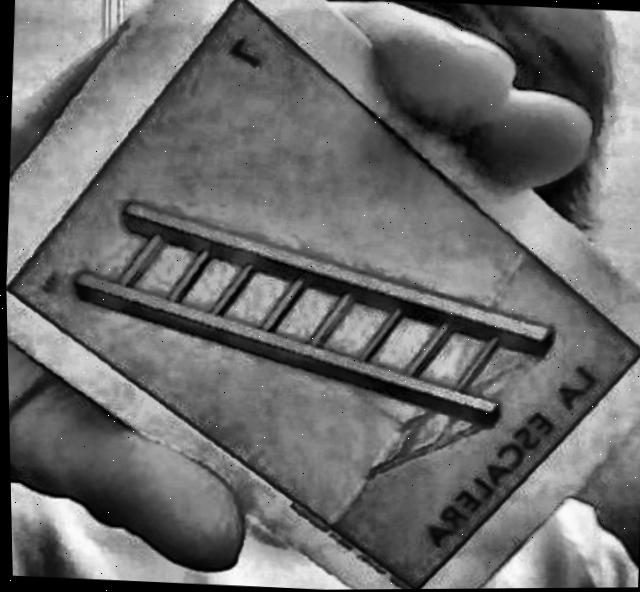La Escalera: (7, 0, 640, 590)
